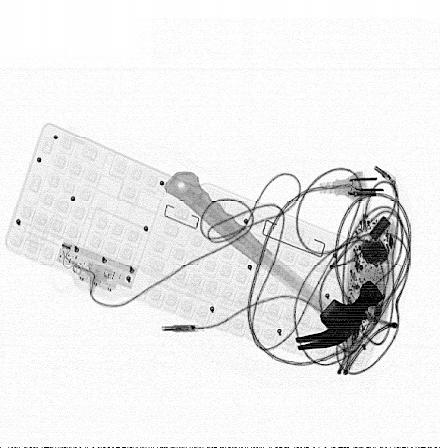Hammer: (163, 170, 385, 352)
